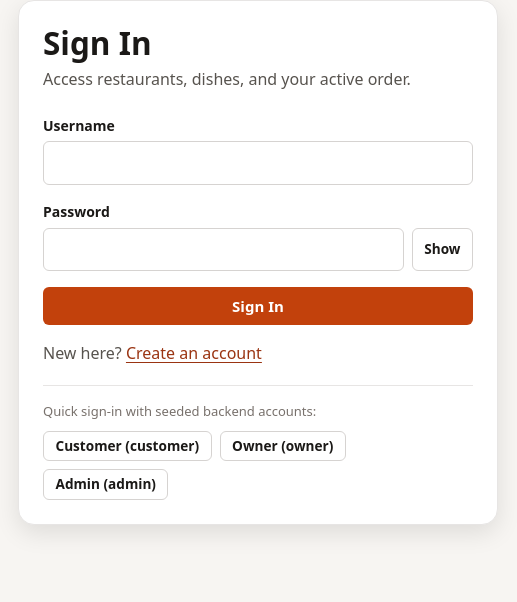
LoginPage accessibility & behavior › renders semantic autofill attributes, password toggle, and validation errors
Click the button "Show" at (442, 249), box left=412, top=228, right=473, bottom=271
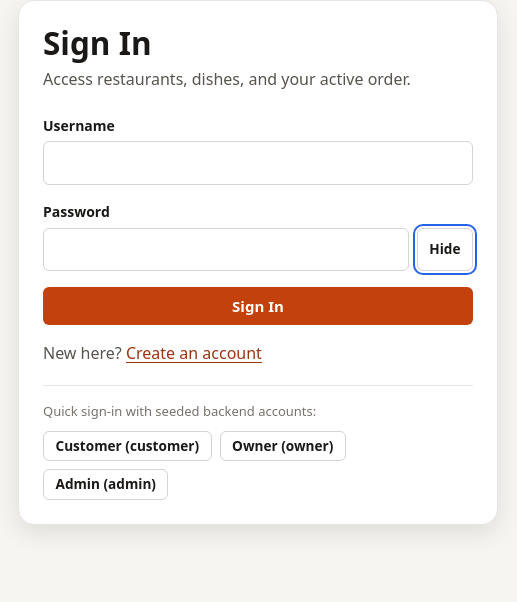
Click the button "Sign In" at (258, 306), box left=43, top=287, right=473, bottom=325
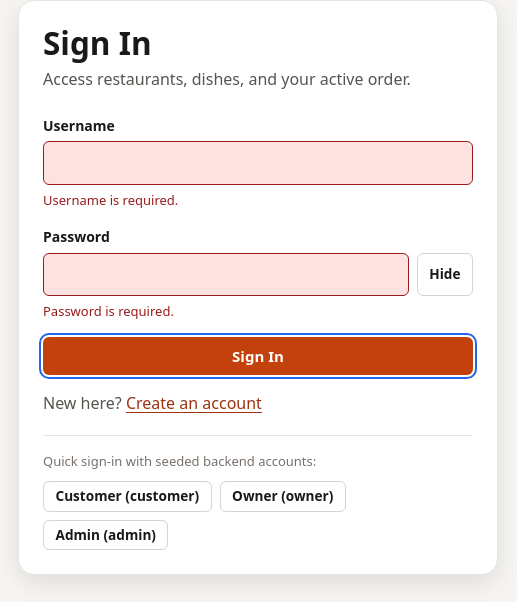
Result: the text "Username is required." is shown at left=43, top=191, right=178, bottom=209
Result: the text "Password is required." is shown at left=43, top=302, right=174, bottom=320
